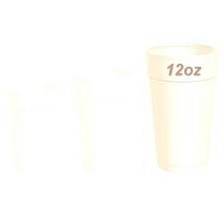paper_cup: (139, 39, 224, 179)
